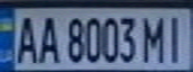0: (81, 14, 103, 63), (103, 14, 121, 63)
3: (118, 12, 142, 63)
8: (63, 12, 84, 64)
A: (12, 11, 39, 64), (33, 11, 60, 64)
I: (163, 11, 190, 64)
M: (139, 12, 172, 63)
